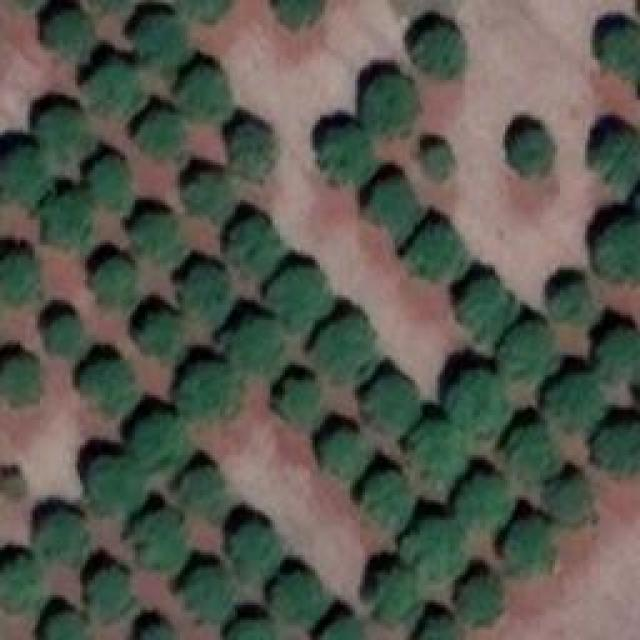Tree: (270, 268, 330, 333), (403, 522, 466, 580), (315, 320, 373, 380), (87, 457, 145, 515), (230, 220, 285, 278), (130, 515, 188, 570), (548, 375, 603, 433), (368, 180, 418, 243), (407, 225, 465, 278), (180, 363, 238, 416), (83, 360, 138, 415), (413, 423, 466, 478), (363, 78, 416, 133), (87, 65, 145, 115), (455, 478, 513, 528), (40, 108, 93, 161), (460, 280, 513, 333), (508, 425, 563, 475), (325, 128, 375, 183), (135, 215, 188, 265), (180, 68, 230, 121), (368, 378, 421, 428), (365, 473, 413, 528), (453, 377, 508, 425), (182, 268, 230, 321), (185, 568, 233, 621), (230, 322, 283, 370), (273, 573, 323, 623), (3, 148, 48, 203), (595, 130, 640, 185), (595, 228, 640, 283), (138, 417, 188, 465), (503, 325, 553, 373), (45, 195, 90, 248), (40, 510, 85, 563), (233, 525, 278, 578), (378, 570, 421, 625), (187, 172, 235, 220), (183, 465, 228, 515), (137, 113, 185, 158), (0, 560, 45, 608), (143, 17, 188, 65), (90, 158, 130, 211), (233, 125, 273, 178), (510, 522, 553, 570), (418, 27, 461, 75), (88, 568, 128, 618), (595, 428, 640, 471), (0, 357, 40, 405), (602, 330, 640, 380), (605, 28, 640, 81), (95, 257, 133, 305), (0, 255, 40, 300), (140, 315, 183, 355), (513, 130, 553, 173), (282, 380, 320, 425), (462, 578, 500, 621), (545, 480, 588, 518), (325, 433, 365, 473), (48, 15, 93, 50), (552, 282, 590, 320), (48, 315, 83, 355), (280, 0, 323, 28), (322, 615, 370, 640), (177, 0, 232, 20), (47, 612, 85, 640), (230, 622, 280, 640), (420, 620, 460, 640), (428, 148, 451, 178), (137, 622, 175, 640), (3, 475, 26, 495)
